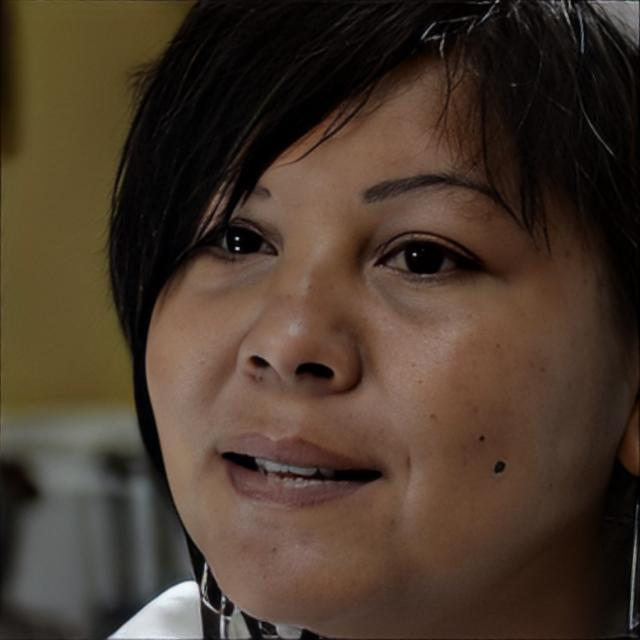sad: (147, 25, 603, 614)
